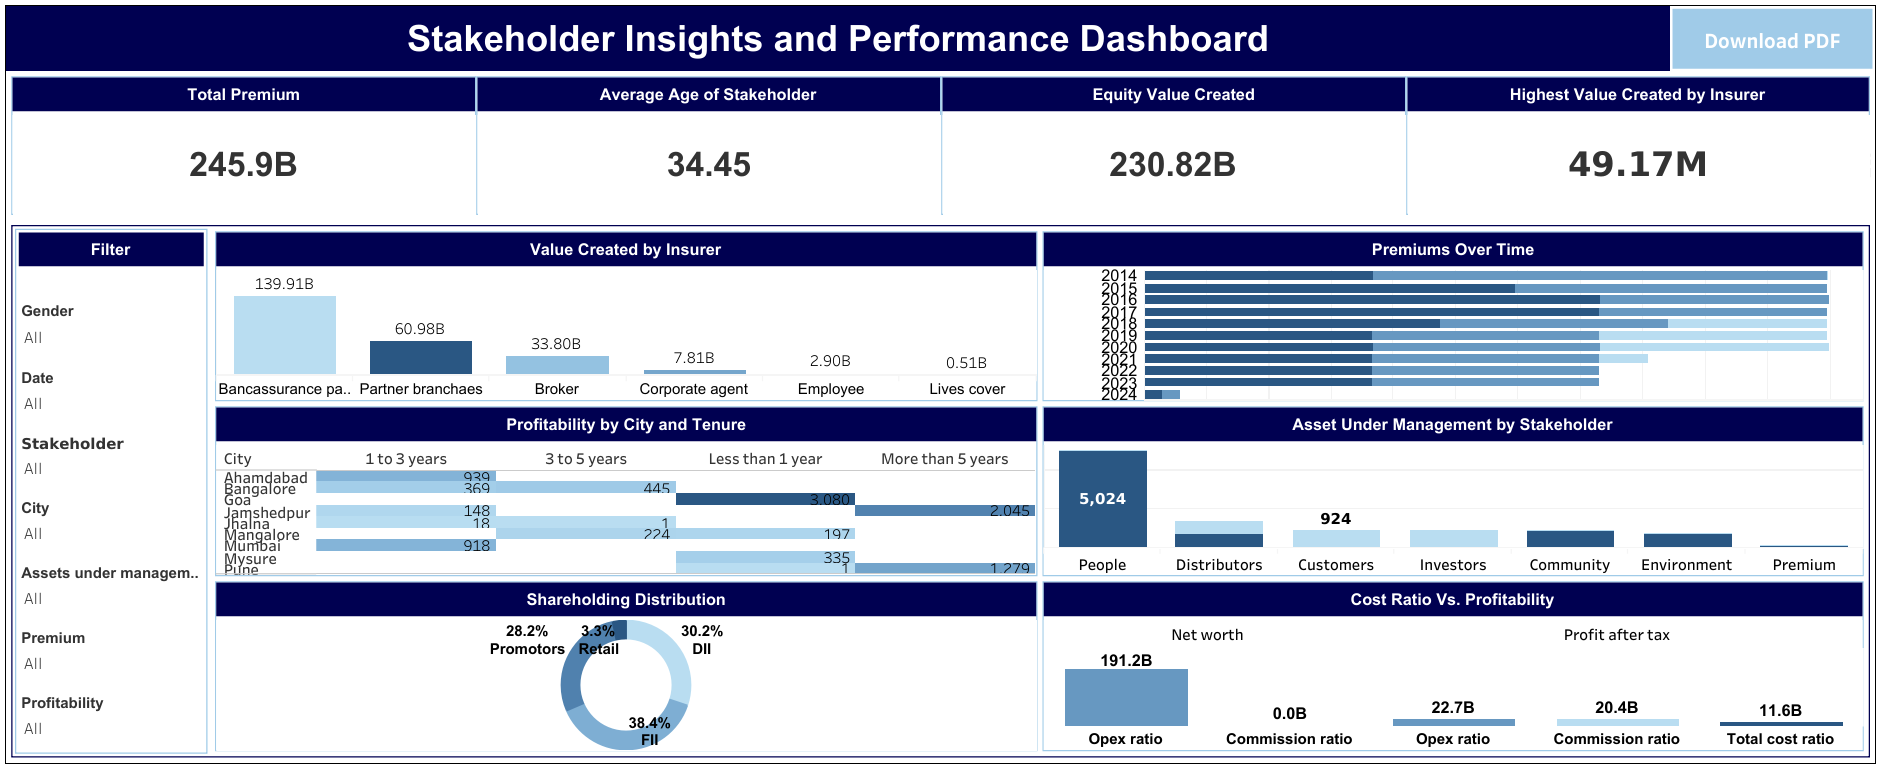

This screenshot's page, from the dashboard's own definition file:
{"tool":"tableau","page":{"name":"Dashboard 1","canvas":[1000,1000],"units":"permille","ordinal":0},"visuals":[{"type":"text","box":[3,6.2,894.7,64.9]},{"type":"dashboard-object","box":[897.7,6.2,99.3,64.9]},{"type":"worksheet","title":"Total Premium","mark":"Automatic","box":[5.5,76.2,247.6,138.6]},{"type":"worksheet","title":"Average Age of Stakeholder","mark":"Automatic","box":[253,76.2,247.6,138.6]},{"type":"worksheet","title":"Equity Value Created","mark":"Automatic","box":[500.6,76.2,247,138.6]},{"type":"worksheet","title":"Highest Value Created by Insurer","mark":"Automatic","box":[747.6,76.2,247,138.6]},{"type":"worksheet","title":"Value Created by Insurer","mark":"Automatic","rows":["Value Created"],"cols":["Insurer"],"box":[102.9,228.5,444.9,277.2]},{"type":"worksheet","title":"Premium Over Time","mark":"Bar","rows":["Date"],"cols":["Premium 1"],"box":[547.8,228.5,444.9,277.2]},{"type":"worksheet","title":"Filter","mark":"Automatic","box":[7.9,229.7,92,94.9]},{"type":"filter","title":"Filter","param":"[federated.1oafyeg1n8py4y15d18090at4ts8].[none:Gender:nk]","box":[7.9,324.6,92,94.9]},{"type":"filter","title":"Filter","param":"[federated.1oafyeg1n8py4y15d18090at4ts8].[my:Date:ok]","box":[7.9,419.5,92,94.9]},{"type":"worksheet","title":"Profitability by City and Tenure","mark":"Square","rows":["City"],"cols":["Policy tenuer"],"box":[102.9,505.6,444.9,258.4]},{"type":"worksheet","title":"Asset Under Management by Stakeholder","mark":"Automatic","rows":["Assets under management"],"cols":["Stakeholder"],"box":[547.8,505.6,444.9,258.4]},{"type":"filter","title":"Filter","param":"[federated.1oafyeg1n8py4y15d18090at4ts8].[none:Stakeholder:nk]","box":[7.9,514.4,92,94.9]},{"type":"filter","title":"Filter","param":"[federated.1oafyeg1n8py4y15d18090at4ts8].[none:City:nk]","box":[7.9,609.2,92,93.6]},{"type":"filter","title":"Filter","param":"[federated.1oafyeg1n8py4y15d18090at4ts8].[none:Assets under management:nk]","box":[7.9,702.9,92,93.6]},{"type":"worksheet","title":"Shareholding Distribution","mark":"Pie","rows":["Calculation_984880993144057856","Calculation_984880993144057856"],"box":[102.9,764,444.9,221]},{"type":"worksheet","title":"Cost Ratio Vs. Profitability","mark":"Automatic","rows":["Value Created"],"cols":["Profitability","Cost ratio"],"box":[547.8,764,444.9,221]},{"type":"filter","title":"Filter","param":"[federated.1oafyeg1n8py4y15d18090at4ts8].[none:Premium 1:nk]","box":[7.9,796.5,92,93.6]},{"type":"filter","title":"Filter","param":"[federated.1oafyeg1n8py4y15d18090at4ts8].[none:Profitability:nk]","box":[7.9,890.1,92,93.6]}]}

Visuals, with their boxes on the dashboard's canvas, which has no fixed pixel size, in thousandths of its width and height (x1, y1, x2, y2). These are canvas units, not pixel positions in the 1880x768 screenshot, which may show the page scaled, cropped or inside an application window:
text: detection(3, 6, 898, 71)
dashboard-object: detection(898, 6, 997, 71)
"Total Premium" worksheet: detection(6, 76, 253, 215)
"Average Age of Stakeholder" worksheet: detection(253, 76, 501, 215)
"Equity Value Created" worksheet: detection(501, 76, 748, 215)
"Highest Value Created by Insurer" worksheet: detection(748, 76, 995, 215)
"Value Created by Insurer" worksheet: detection(103, 228, 548, 506)
"Premium Over Time" worksheet (Bar marks): detection(548, 228, 993, 506)
"Filter" worksheet: detection(8, 230, 100, 325)
"Filter" filter: detection(8, 325, 100, 420)
"Filter" filter: detection(8, 420, 100, 514)
"Profitability by City and Tenure" worksheet (Square marks): detection(103, 506, 548, 764)
"Asset Under Management by Stakeholder" worksheet: detection(548, 506, 993, 764)
"Filter" filter: detection(8, 514, 100, 609)
"Filter" filter: detection(8, 609, 100, 703)
"Filter" filter: detection(8, 703, 100, 796)
"Shareholding Distribution" worksheet (Pie marks): detection(103, 764, 548, 985)
"Cost Ratio Vs. Profitability" worksheet: detection(548, 764, 993, 985)
"Filter" filter: detection(8, 796, 100, 890)
"Filter" filter: detection(8, 890, 100, 984)
